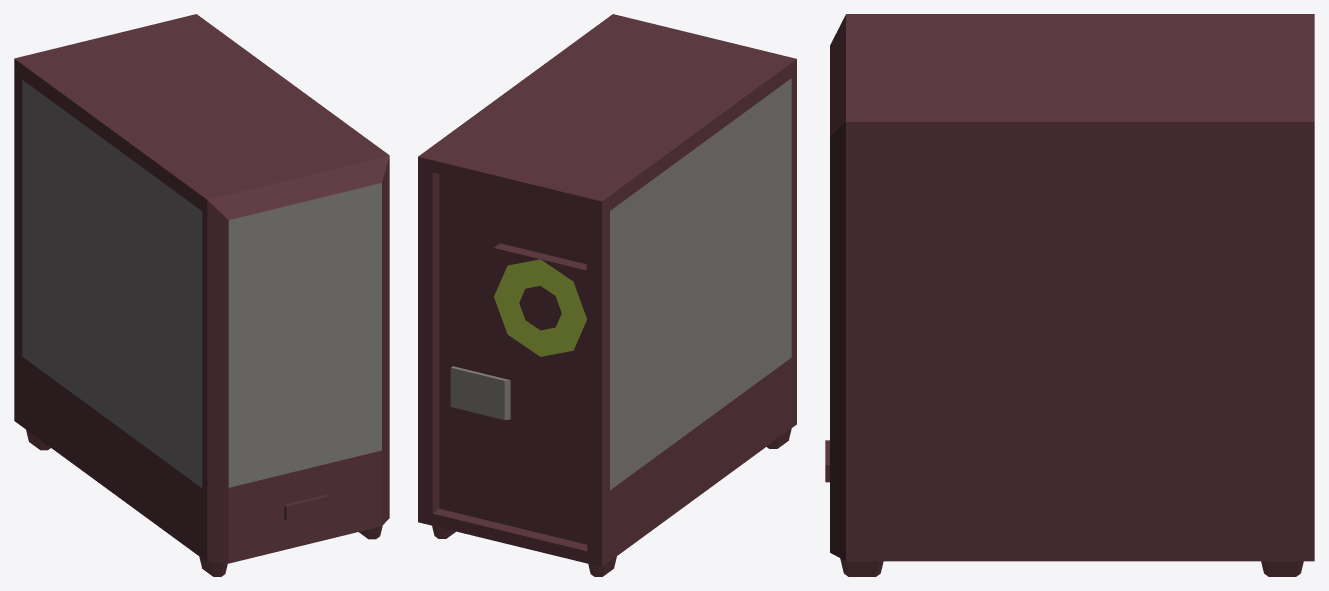
File: pc-desktop-gaming.fbx
3 views of the same model, side by side, from view 1: azimuth 30°, elevation 25°; view 2: azimuth 150°, elevation 25°; view 3: azimuth 270°, elevation 25° (orthographic). The views are drawn at different scales.
Visible parts, largest first — view 1: pc-desktop-gaming; view 2: pc-desktop-gaming; view 3: pc-desktop-gaming.
Part boxes in pixels (bbox=[...]): pc-desktop-gaming: bbox=[14, 14, 389, 576]; pc-desktop-gaming: bbox=[418, 14, 796, 576]; pc-desktop-gaming: bbox=[825, 14, 1314, 576].
Size of the model in its own units: 0.316 by 0.6283 by 0.6059.
